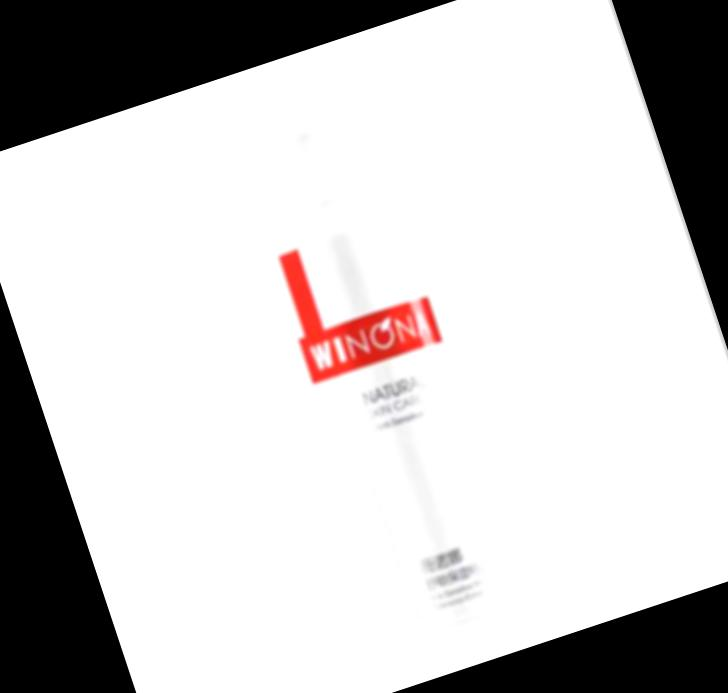cosmetic: (218, 66, 532, 647)
